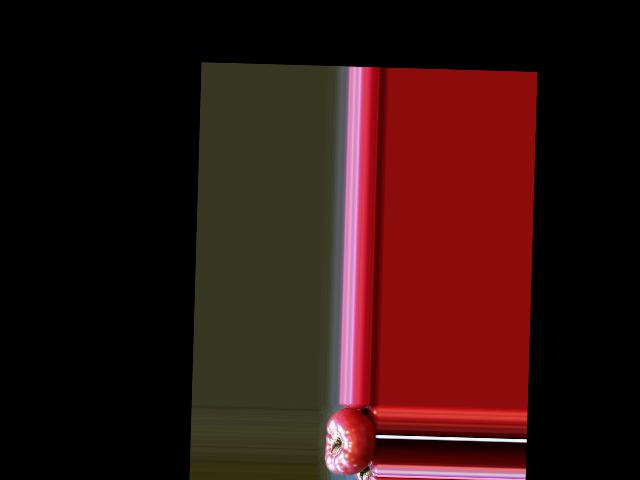tomato: (324, 405, 377, 475)
